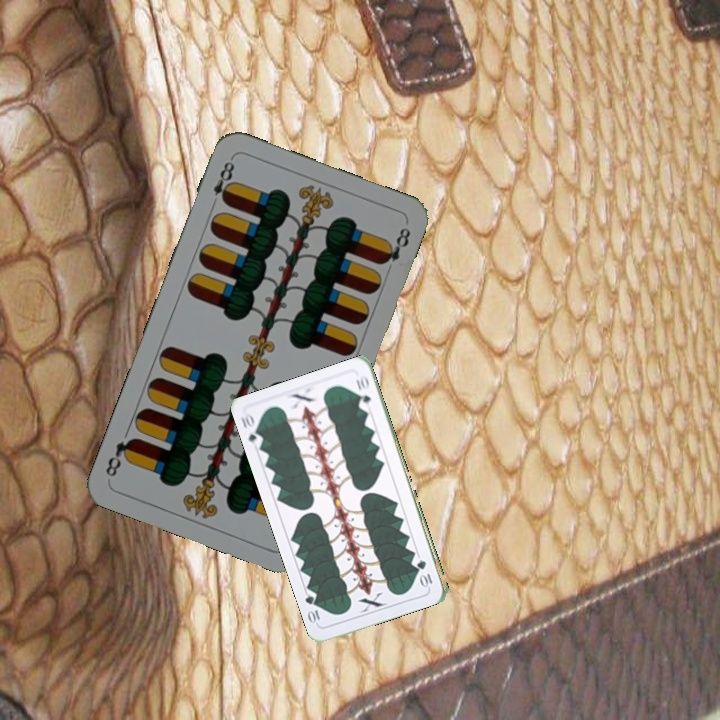E8: (207, 154, 237, 210)
G10: (236, 410, 266, 450), (414, 556, 435, 590)
